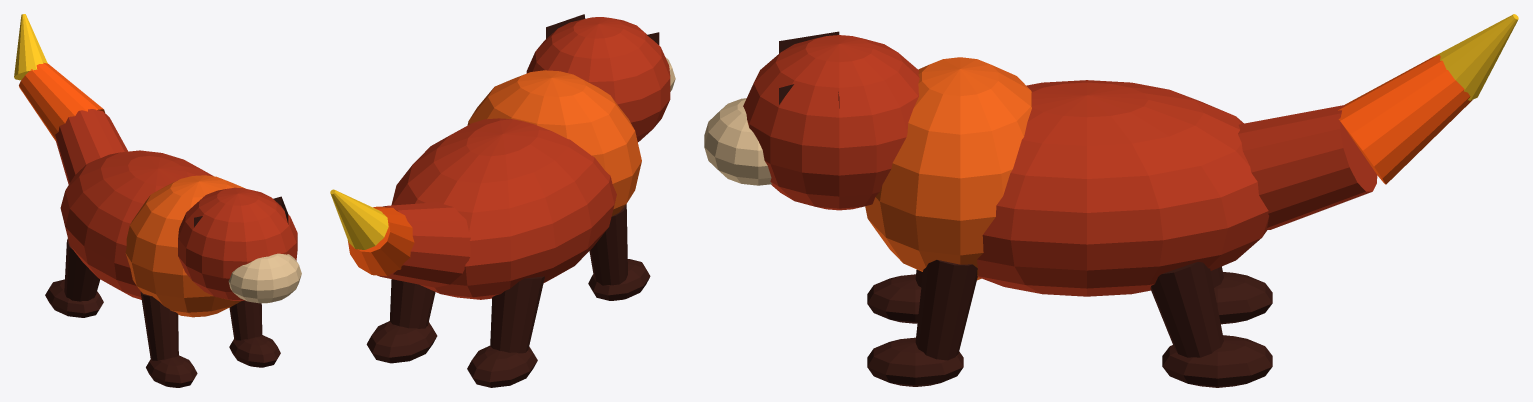
The model's file is MagicForestFox.obj.
3 views of the same model, side by side, from view 1: azimuth 30°, elevation 25°; view 2: azimuth 150°, elevation 25°; view 3: azimuth 270°, elevation 25° (orthographic). The views are drawn at different scales.
Visible parts, largest first — view 1: Body, Head, Chest, TailA, TailB, Muzzle, FrontLeg-0.62, BackLeg-0.62, FrontPaw-0.62, FrontPaw0.62, TailC, BackPaw-0.62 (+1 smaller); view 2: Body, Chest, Head, TailA, BackLeg-0.62, TailB, FrontLeg-0.62, BackPaw-0.62, BackPaw0.62, TailC, BackLeg0.62, FrontPaw-0.62; view 3: Body, Chest, Head, TailA, TailB, BackLeg0.62, FrontLeg0.62, BackPaw0.62, Muzzle, FrontPaw0.62, TailC, BackPaw-0.62 (+1 smaller).
Part boxes in pixels (box(x1,y1,x2,y2)): Body: box(60, 150, 213, 299); Head: box(178, 187, 297, 300); Chest: box(125, 175, 245, 317); TailA: box(55, 109, 128, 184); TailB: box(19, 62, 104, 140); Muzzle: box(228, 253, 301, 303); FrontLeg-0.62: box(140, 292, 178, 360); BackLeg-0.62: box(64, 238, 100, 301); FrontPaw-0.62: box(146, 355, 197, 387); FrontPaw0.62: box(229, 335, 280, 367); TailC: box(14, 14, 47, 80); BackPaw-0.62: box(45, 279, 103, 317); Body: box(391, 118, 616, 299); Chest: box(467, 70, 641, 216); Head: box(526, 17, 670, 141); TailA: box(377, 202, 470, 287); BackLeg-0.62: box(490, 276, 544, 353); TailB: box(347, 206, 414, 276); FrontLeg-0.62: box(589, 204, 627, 285); BackPaw-0.62: box(467, 345, 537, 387); BackPaw0.62: box(366, 321, 437, 363); TailC: box(330, 189, 388, 249); BackLeg0.62: box(389, 279, 435, 328); FrontPaw-0.62: box(588, 259, 650, 300); Body: box(977, 80, 1268, 296); Chest: box(865, 57, 1031, 280); Head: box(743, 35, 919, 210); TailA: box(1238, 105, 1377, 229); TailB: box(1338, 54, 1472, 184); BackLeg0.62: box(1150, 262, 1223, 357); FrontLeg0.62: box(915, 260, 977, 360); BackPaw0.62: box(1162, 335, 1272, 387); Muzzle: box(704, 98, 772, 185); FrontPaw0.62: box(867, 337, 963, 386); TailC: box(1433, 14, 1518, 100); BackPaw-0.62: box(1214, 272, 1272, 324).
Size of the model in its own units: 2.2 by 3.09 by 6.74.
